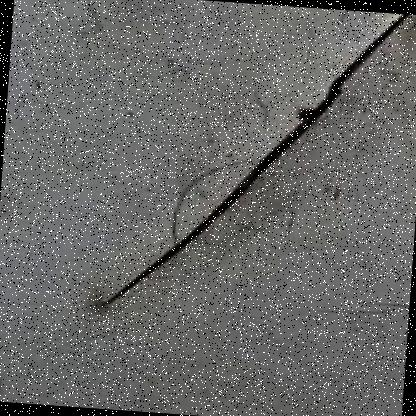Crack: (85, 0, 415, 345)
